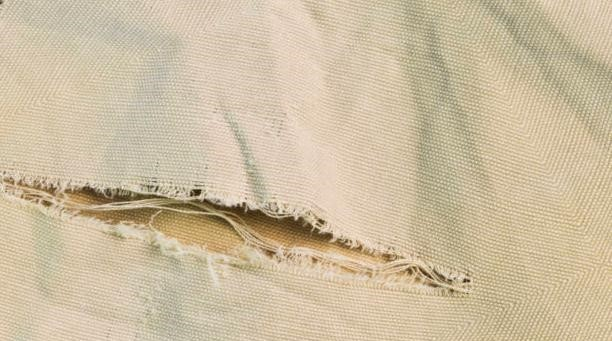hole: (1, 156, 473, 304)
